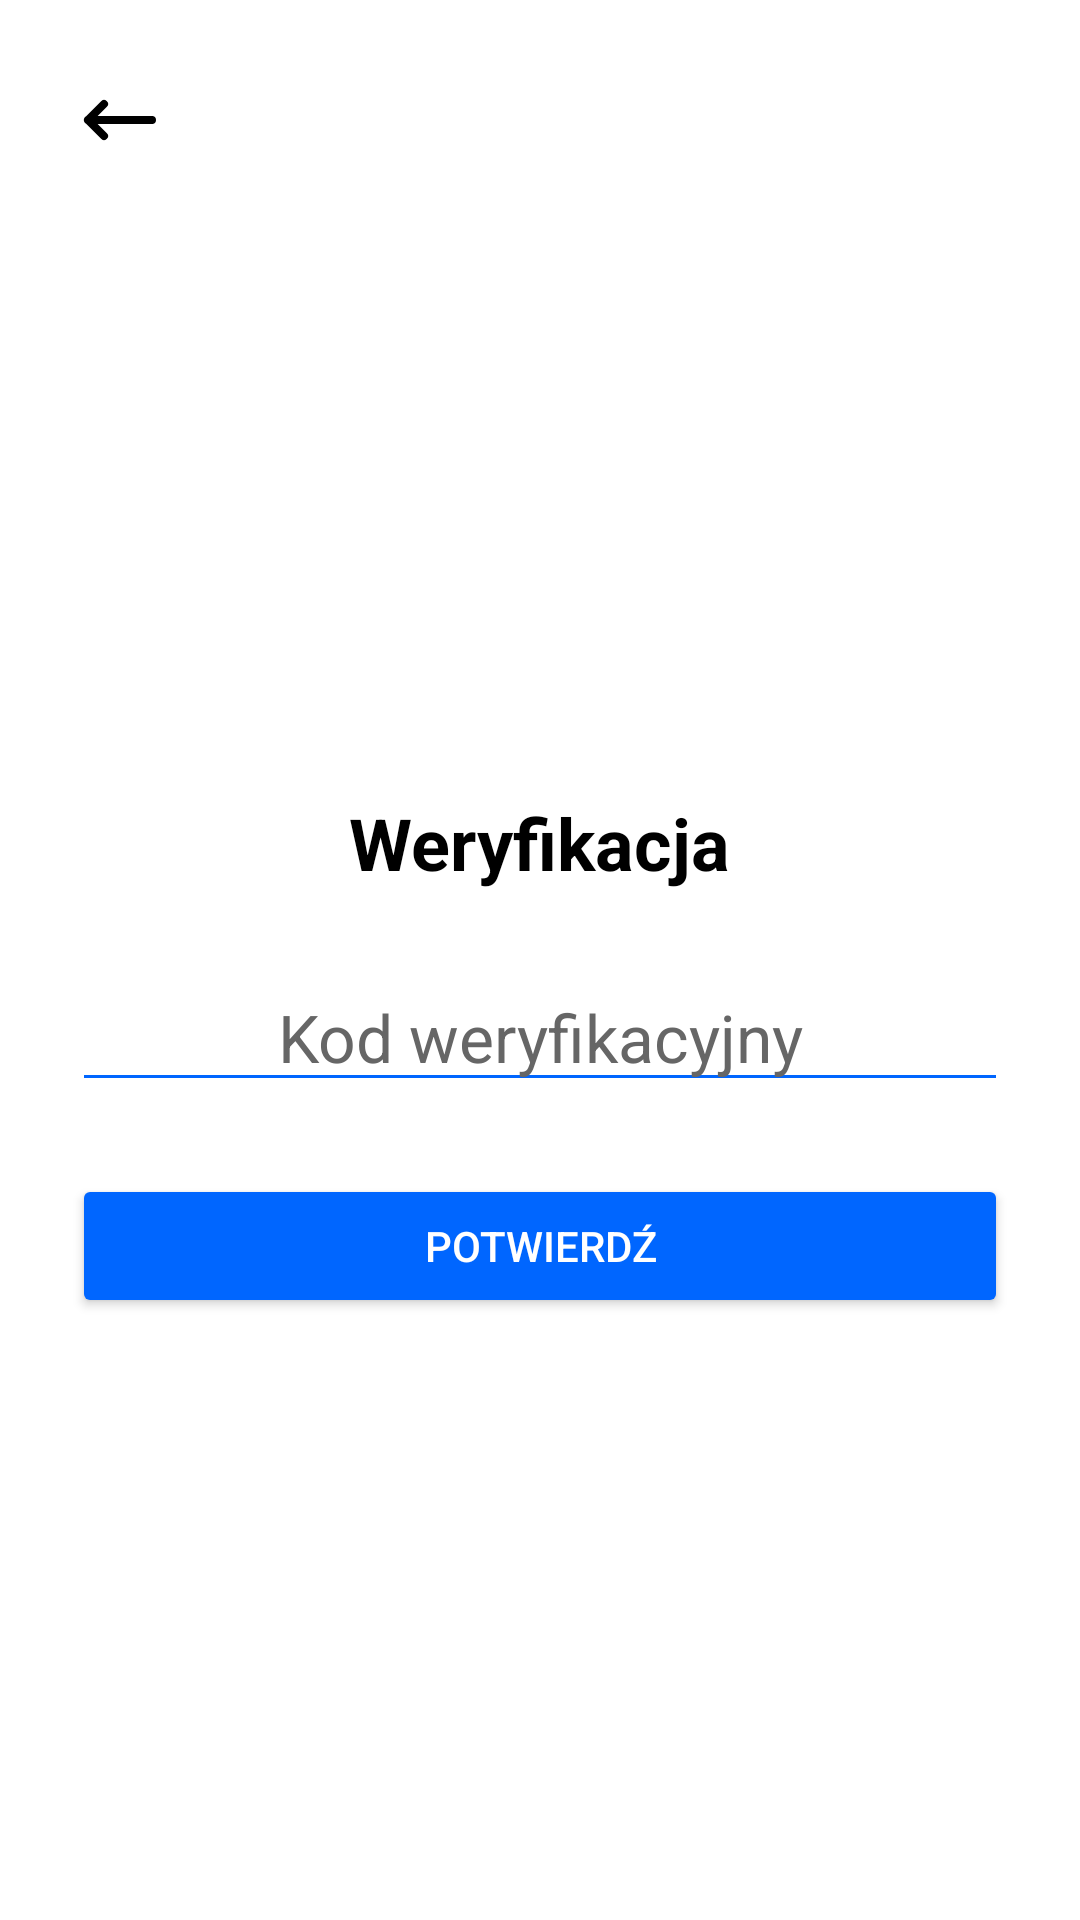

Icon click points for this 1080px x 1920px phone screenshot, format (x=x, y=y):
arrow: (x=119, y=120)
